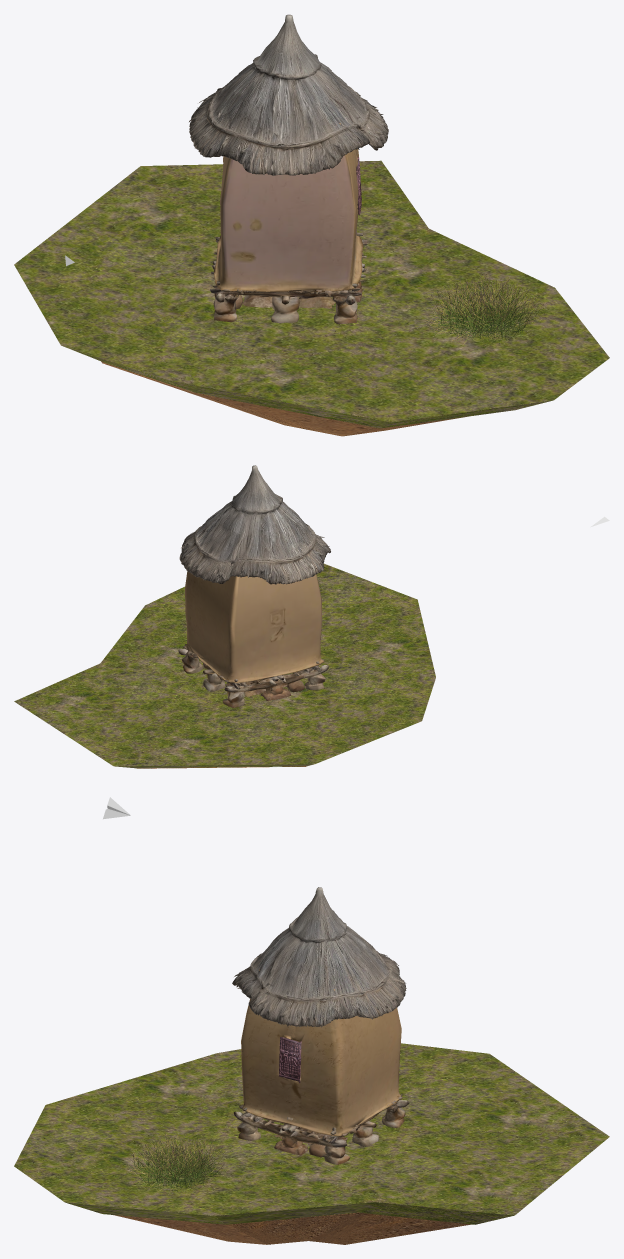
3 views of the same model, one above another, from view 1: azimuth 30°, elevation 25°; view 2: azimuth 150°, elevation 25°; view 3: azimuth 270°, elevation 25° (orthographic). The views are drawn at different scales.
Parts seen in each view (by area): view 1: Cube, roof, Wall, Object_2.001, rock, Cube.001; view 2: Cube, Wall, roof, rock; view 3: Cube, Wall, roof, Cube.001, rock, Object_2.001, Window.
Part boxes in pixels (box(x1,y1,x2,y2)): Cube: box(14, 160, 609, 428); roof: box(189, 14, 388, 175); Wall: box(214, 123, 363, 292); Object_2.001: box(421, 271, 546, 347); rock: box(210, 230, 367, 324); Cube.001: box(101, 361, 464, 436); Cube: box(14, 563, 435, 768); Wall: box(185, 571, 324, 682); roof: box(179, 465, 330, 584); rock: box(178, 644, 328, 707); Cube: box(14, 1043, 609, 1224); Wall: box(241, 968, 401, 1136); roof: box(232, 887, 406, 1027); Cube.001: box(113, 1212, 471, 1244); rock: box(233, 1091, 409, 1164); Object_2.001: box(119, 1132, 231, 1195); Window: box(279, 1037, 301, 1082).
Size of the model in its own units: 7.31 by 4.81 by 7.9.
Materials: 7 (7 with a texture image).
